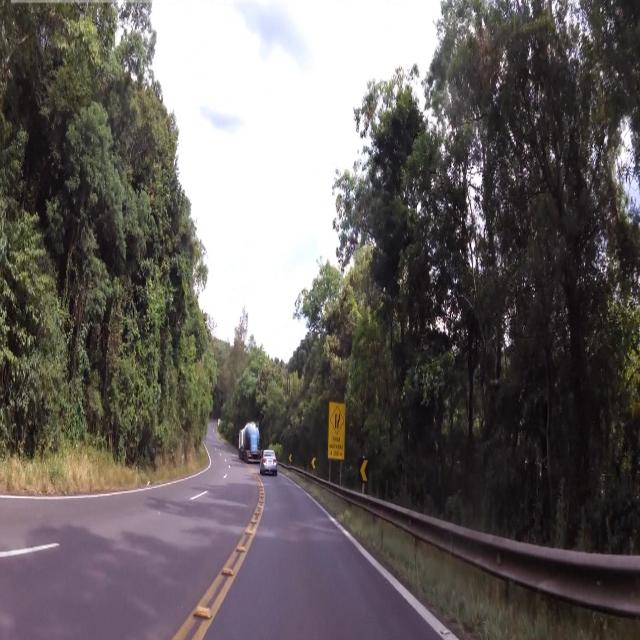Del: (358, 453, 371, 487)
